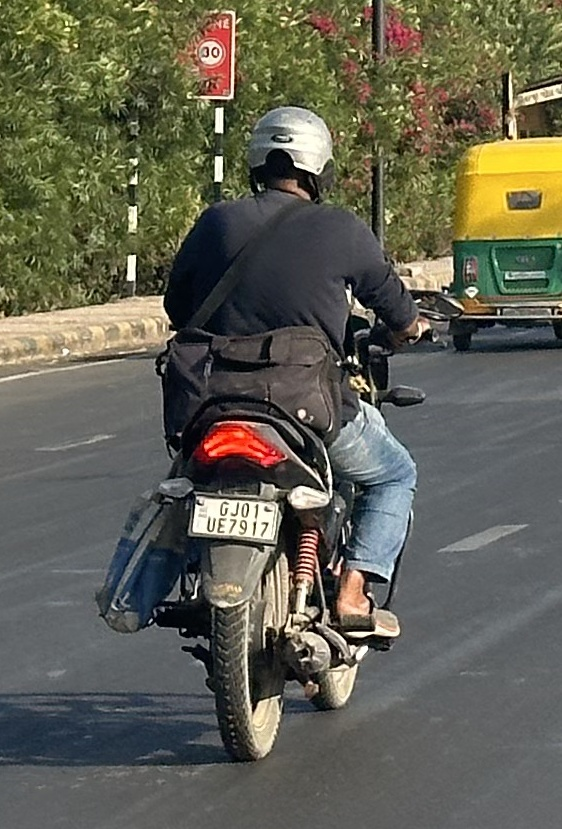BikeWithRider: (91, 101, 467, 766)
Helmet: (239, 103, 341, 208)
